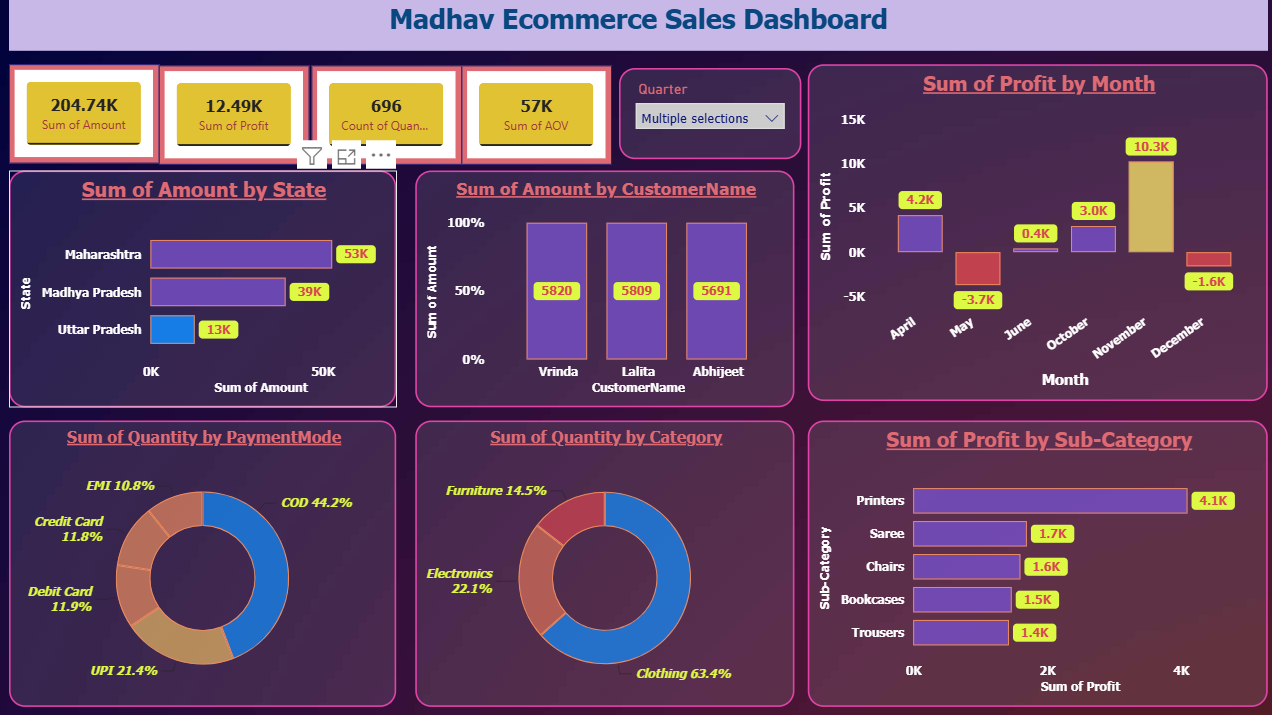

The dashboard page shown, as its layout file describes it:
{"tool":"powerbi","page":{"name":"Page 1","canvas":[1280,720],"ordinal":0},"visuals":[{"type":"textbox","box":[10,0,1259,53],"z":0},{"type":"columnChart","fields":{"Category":["Orders.Order Date.Variation.Date Hierarchy.Month"],"Y":["Sum(Details.Profit)"]},"box":[809,66,460,337],"z":1000},{"type":"barChart","fields":{"Category":["Details.Sub-Category"],"Y":["Sum(Details.Profit)"]},"box":[809,422,460,286],"z":2000},{"type":"donutChart","fields":{"Category":["Details.Category"],"Y":["Sum(Details.Quantity)"]},"box":[416,422,379,286],"z":3000},{"type":"donutChart","fields":{"Category":["Details.PaymentMode"],"Y":["Sum(Details.Quantity)"]},"box":[10,422,387,286],"z":4000},{"type":"cardVisual","fields":{"Data":["Sum(Details.Profit)"]},"box":[160,67,150,99],"z":5000},{"type":"cardVisual","fields":{"Data":["CountNonNull(Details.Quantity)"]},"box":[313,67,150,99],"z":6000},{"type":"cardVisual","fields":{"Data":["Sum(Details.AOV)"]},"box":[463,67,150,99],"z":7000},{"type":"cardVisual","fields":{"Data":["Sum(Details.Amount)"]},"box":[10,66,150,99],"z":8000},{"type":"barChart","fields":{"Category":["Orders.State"],"Y":["Sum(Details.Amount)"]},"box":[10,173,387,237],"z":9000},{"type":"hundredPercentStackedColumnChart","fields":{"Category":["Orders.CustomerName"],"Y":["Sum(Details.Amount)"]},"box":[416,173,379,237],"z":10000},{"type":"slicer","fields":{"Values":["Orders.Order Date.Variation.Date Hierarchy.Quarter"]},"box":[620,70,182,91],"z":11000}]}

Visuals, with their boxes in screenshot pixels (x1, y1, x2, y2), scaled from the page's 1280x720 canvas onto the 1272x715 screenshot:
textbox: (left=10, top=0, right=1261, bottom=53)
columnChart - Orders.Order Date.Variation.Date Hierarchy.Month x Sum(Details.Profit): (left=804, top=66, right=1261, bottom=400)
barChart - Details.Sub-Category x Sum(Details.Profit): (left=804, top=419, right=1261, bottom=703)
donutChart - Details.Category x Sum(Details.Quantity): (left=413, top=419, right=790, bottom=703)
donutChart - Details.PaymentMode x Sum(Details.Quantity): (left=10, top=419, right=395, bottom=703)
cardVisual - Sum(Details.Profit): (left=159, top=67, right=308, bottom=165)
cardVisual - CountNonNull(Details.Quantity): (left=311, top=67, right=460, bottom=165)
cardVisual - Sum(Details.AOV): (left=460, top=67, right=609, bottom=165)
cardVisual - Sum(Details.Amount): (left=10, top=66, right=159, bottom=164)
barChart - Orders.State x Sum(Details.Amount): (left=10, top=172, right=395, bottom=407)
hundredPercentStackedColumnChart - Orders.CustomerName x Sum(Details.Amount): (left=413, top=172, right=790, bottom=407)
slicer - Orders.Order Date.Variation.Date Hierarchy.Quarter: (left=616, top=70, right=797, bottom=160)
